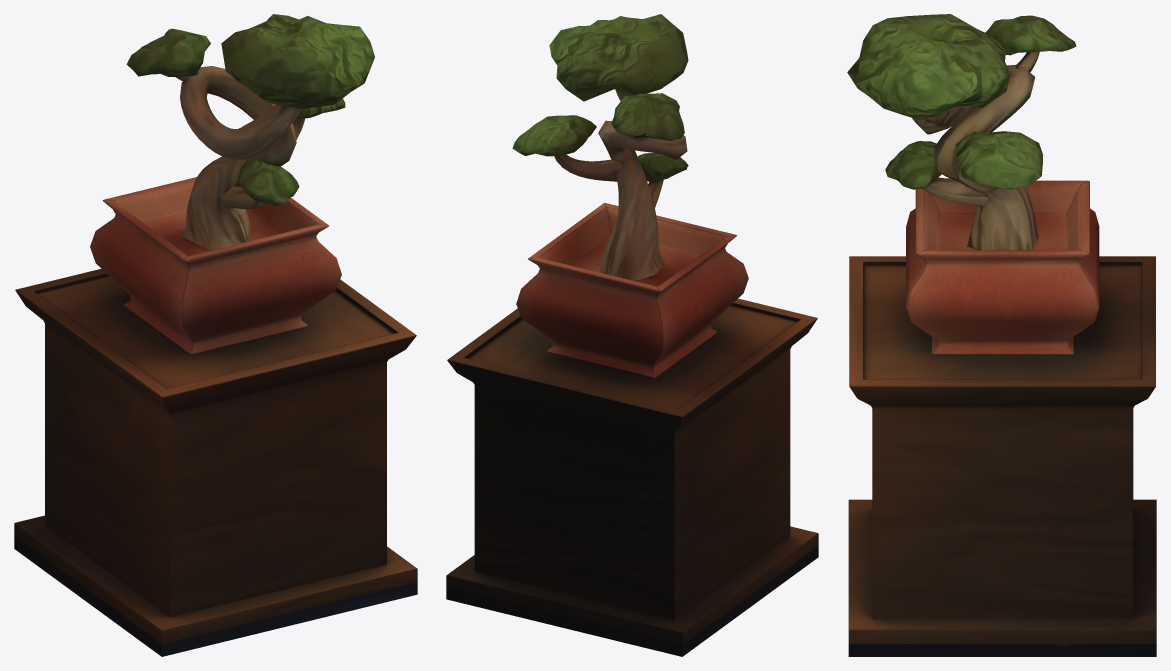
Rendered from Bonsai.glb.
3 renders of one model, left to right at view 1: azimuth 30°, elevation 25°; view 2: azimuth 150°, elevation 25°; view 3: azimuth 270°, elevation 25°, orthographic. The views are drawn at different scales.
Parts seen in each view (by area): view 1: Bonsai.001; view 2: Bonsai.001; view 3: Bonsai.001.
Part boxes in pixels (bbox=[...]): Bonsai.001: bbox=[14, 14, 417, 656]; Bonsai.001: bbox=[446, 14, 818, 656]; Bonsai.001: bbox=[847, 14, 1156, 656].
Size of the model in its own units: 0.6288 by 1.32 by 0.6317.
1 material, 1 textured.
